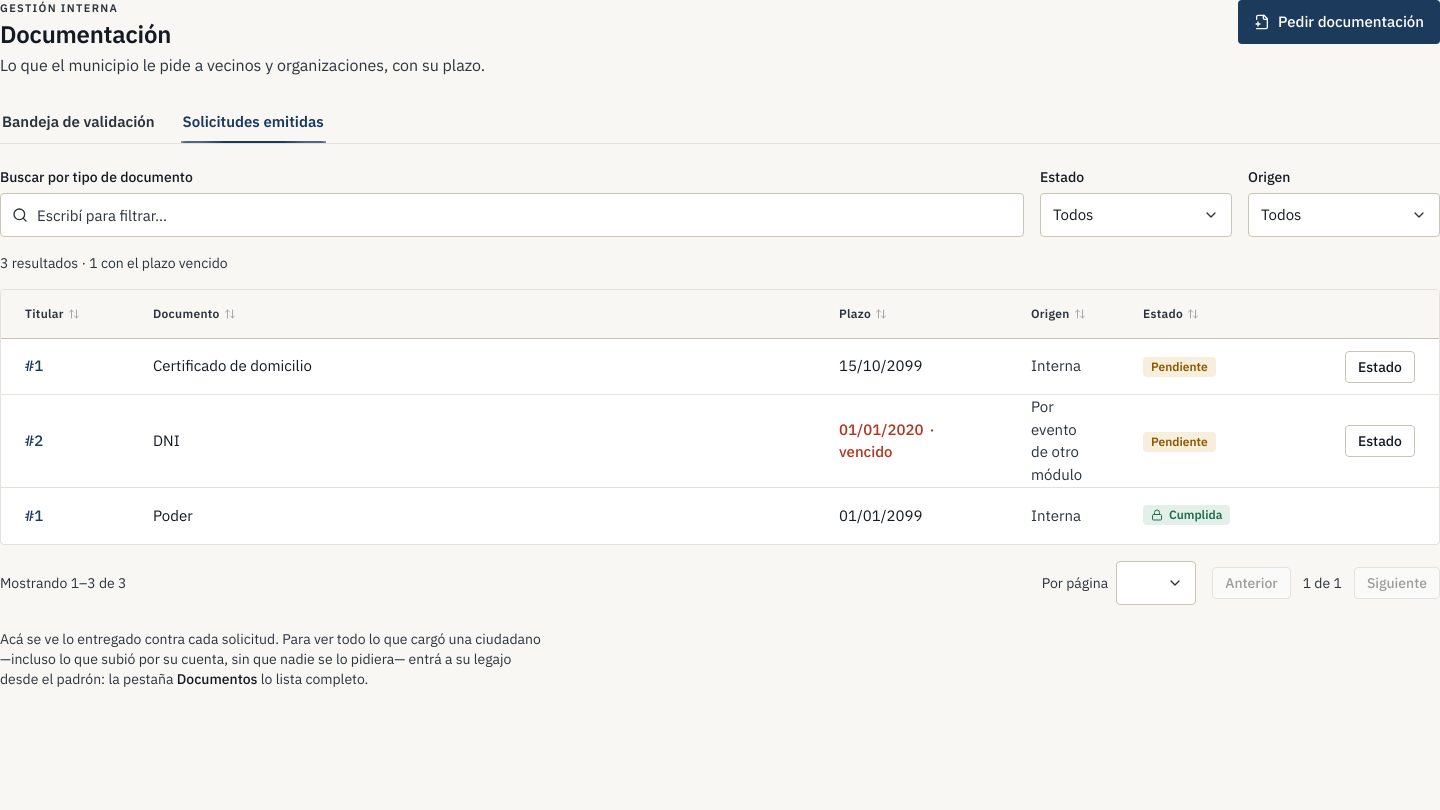
Test case: pedir documentación › busca al titular por DNI antes de pedir el resto
Click the button "Pedir documentación".
click(1339, 22)  # box top-left (1238, 0), bottom-right (1439, 44)
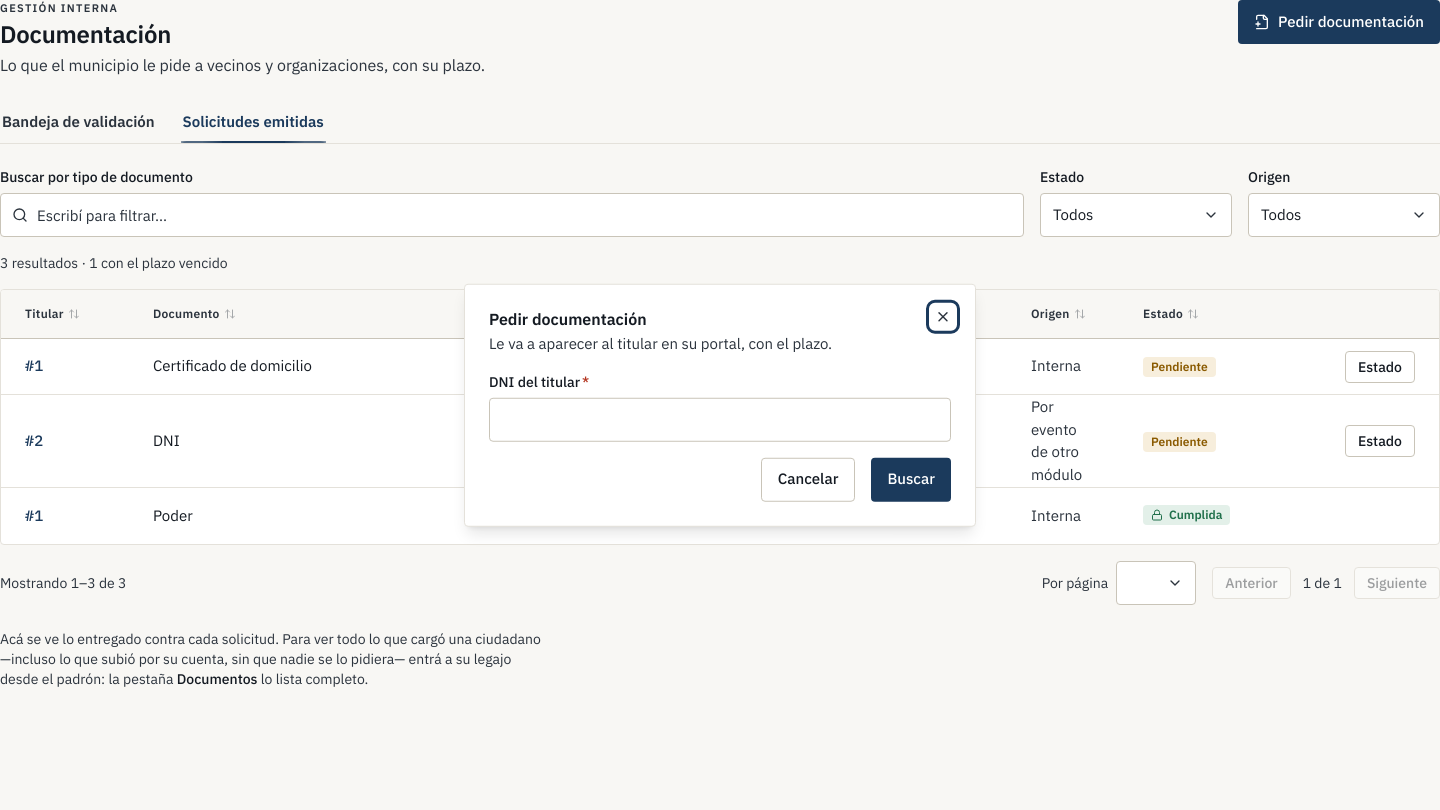
Expected: the field labelled "DNI del titular" is shown
Type "34567890" into the field labelled "DNI del titular".
click(720, 419); type("34567890")  # box top-left (489, 397), bottom-right (951, 441)
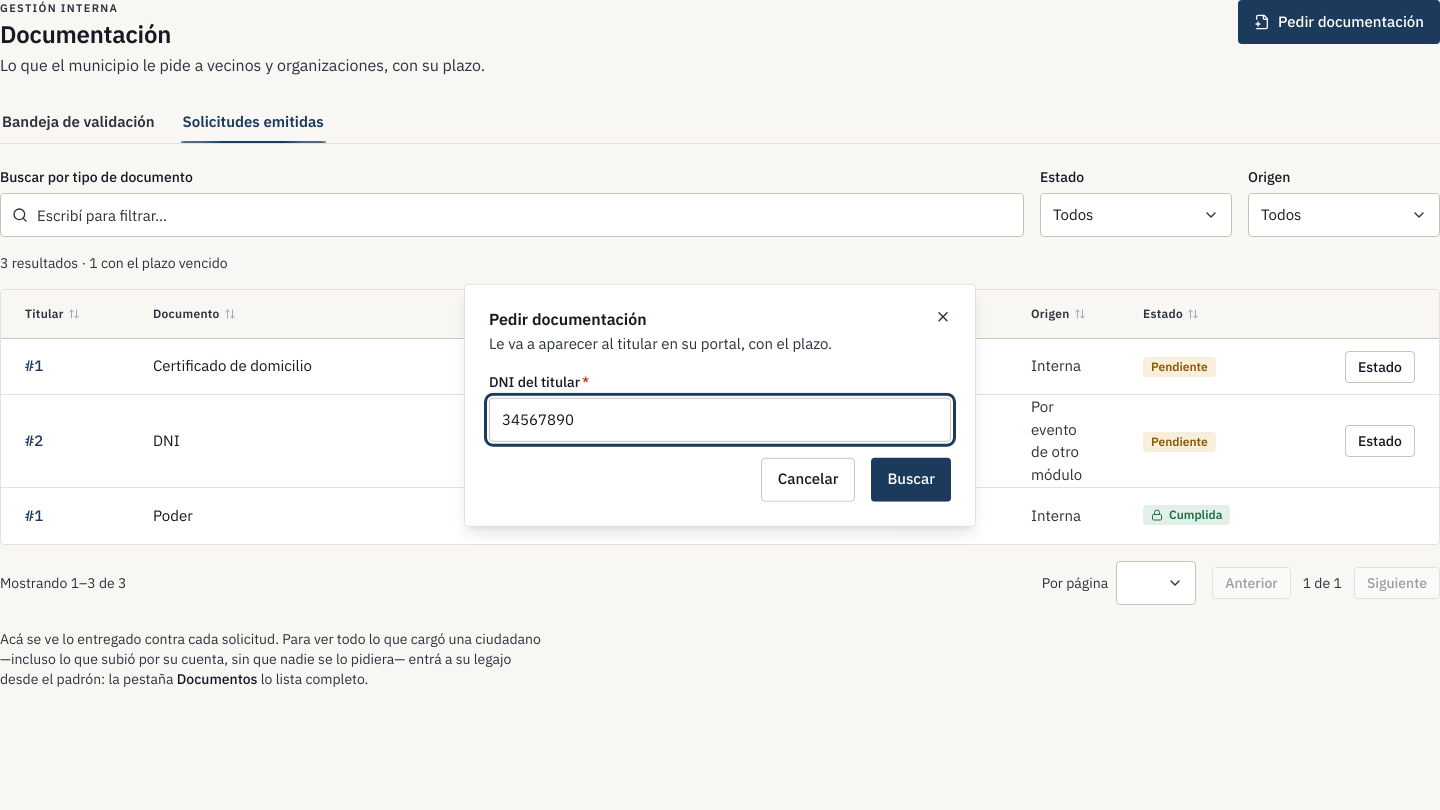
Click the button "Buscar".
click(911, 479)  # box top-left (871, 457), bottom-right (951, 501)
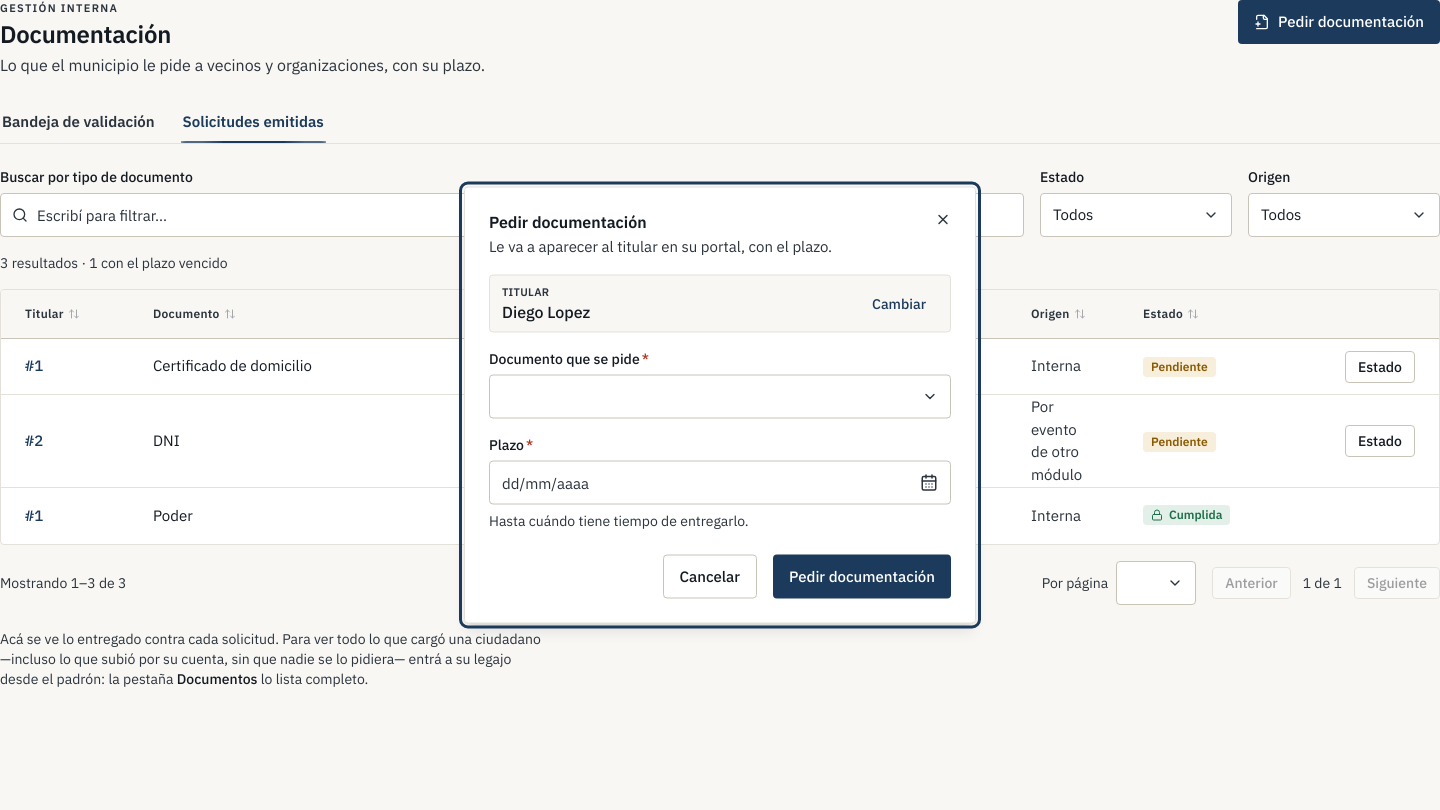
Expected: the text "Diego Lopez" is shown, top-left (502, 302), bottom-right (590, 322)
Expected: the field labelled "Plazo" is shown, top-left (489, 460), bottom-right (951, 504)
